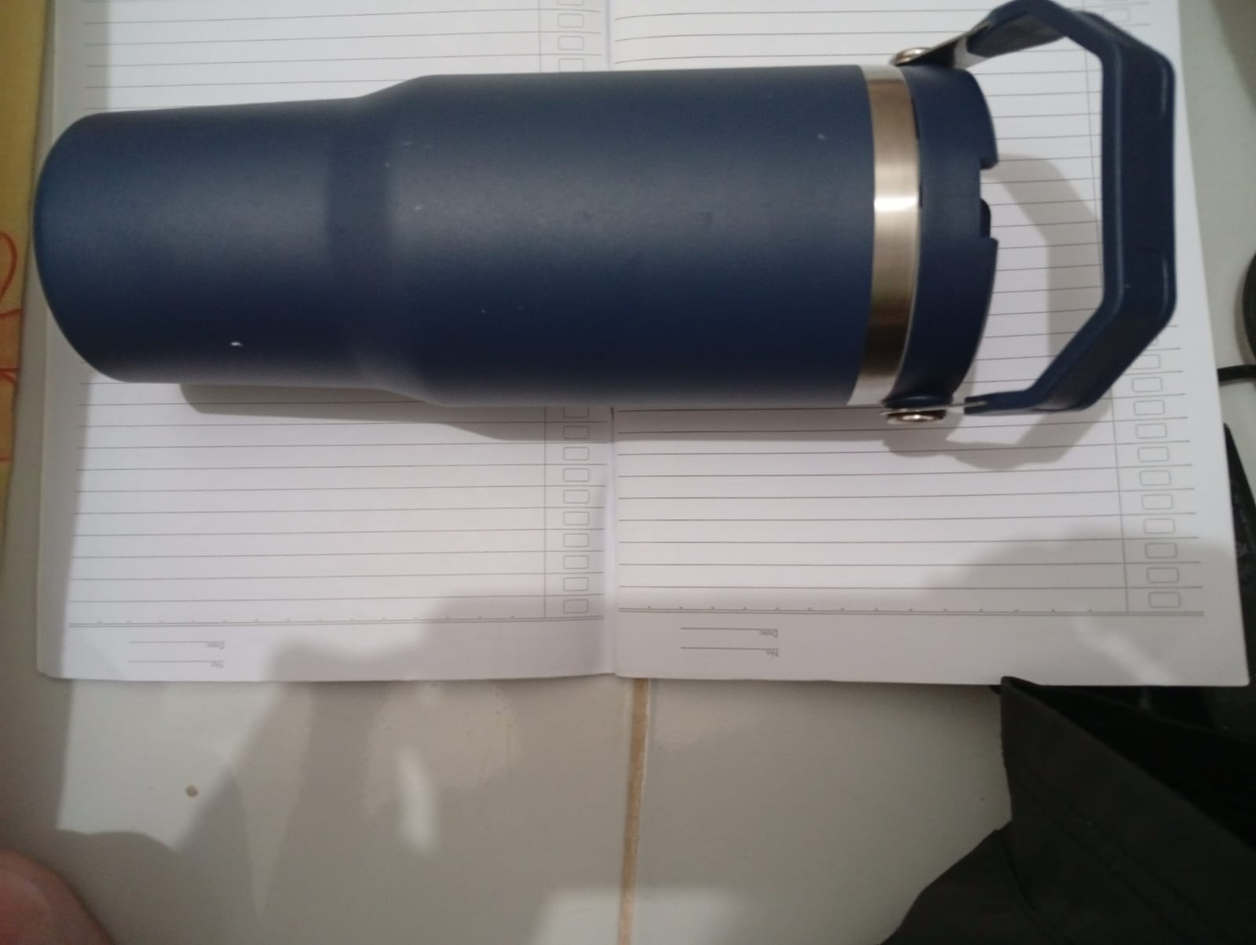Tupperware: (25, 0, 1202, 448)
